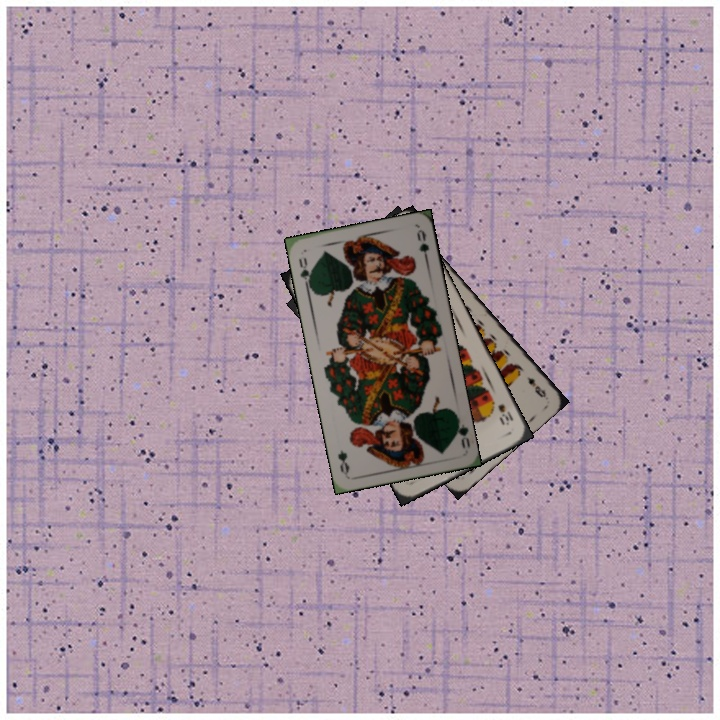E9: (522, 372, 549, 400)
GO: (450, 412, 473, 451), (295, 254, 315, 291)
S10: (494, 400, 516, 428)
